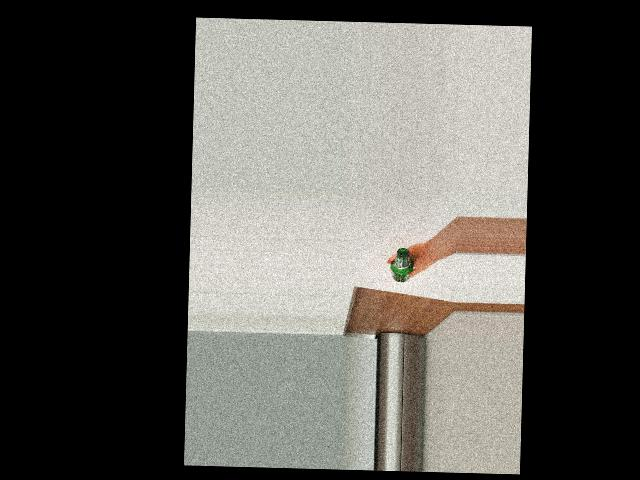beer: (390, 247, 414, 282)
